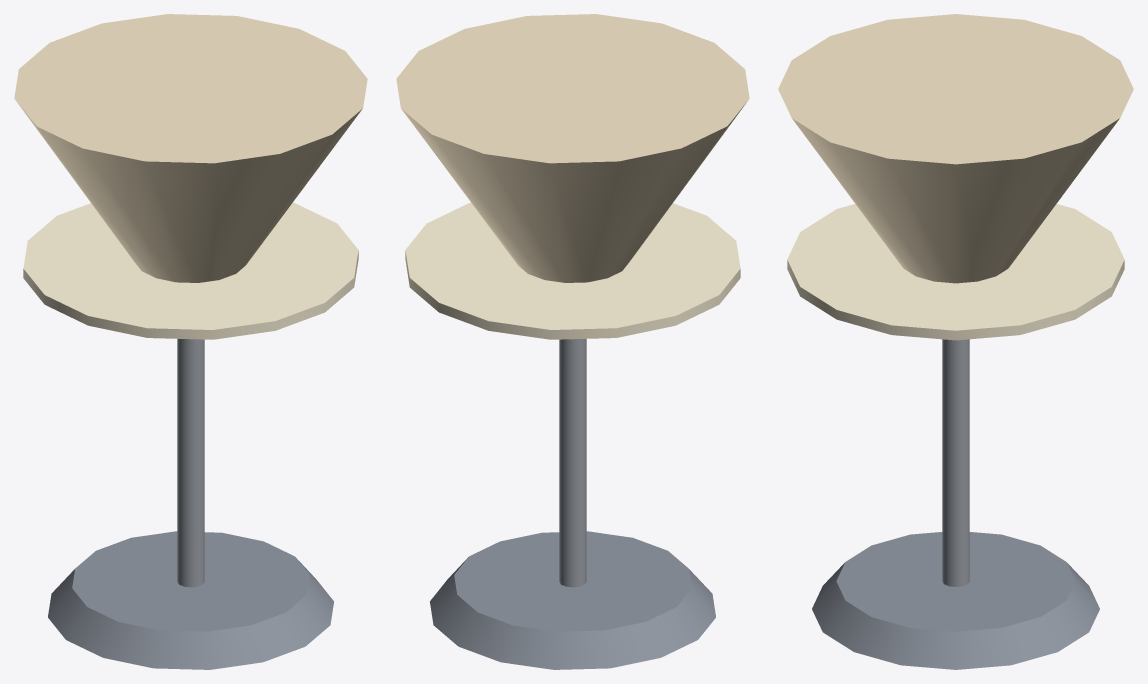
Rendered from demo-desk-lamp.glb.
The picture shows the model from 3 angles, left to right: view 1: azimuth 30°, elevation 25°; view 2: azimuth 150°, elevation 25°; view 3: azimuth 270°, elevation 25°; orthographic projection.
Bounding box in the file's own units: 1.16 × 1.87 × 1.16.
